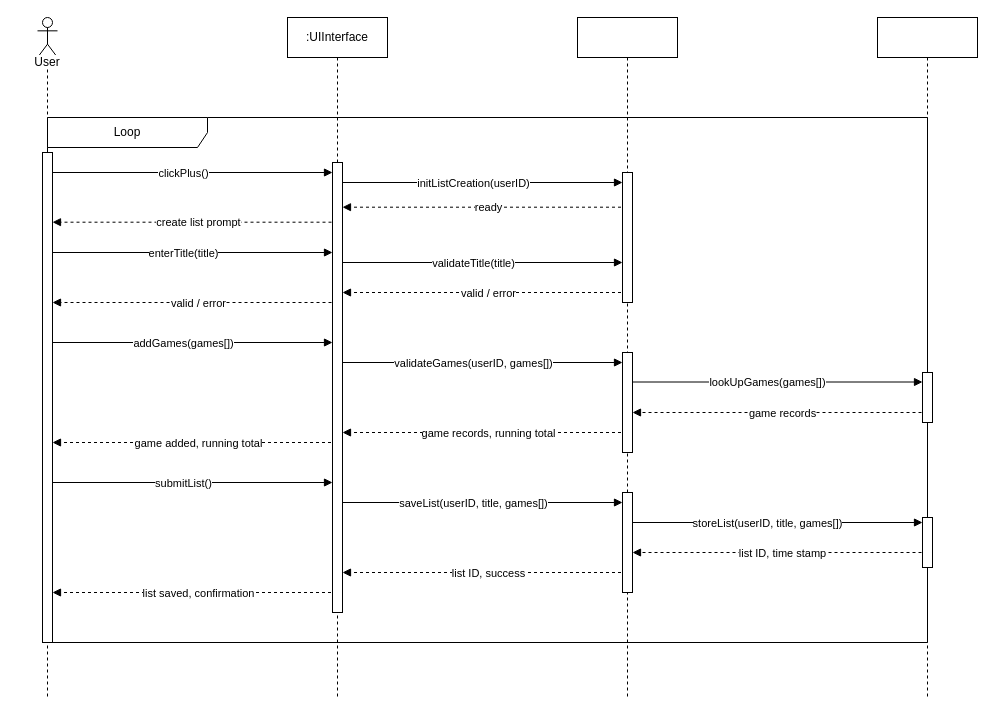
Some shapes in this 995 by 715 pixel diagram are drawn without their labels. The shapes that lost their labels are listed below. From the top down, each one's centre as x and y in pixels, then its label:
(627,357): :Controller
(927,357): :Database
